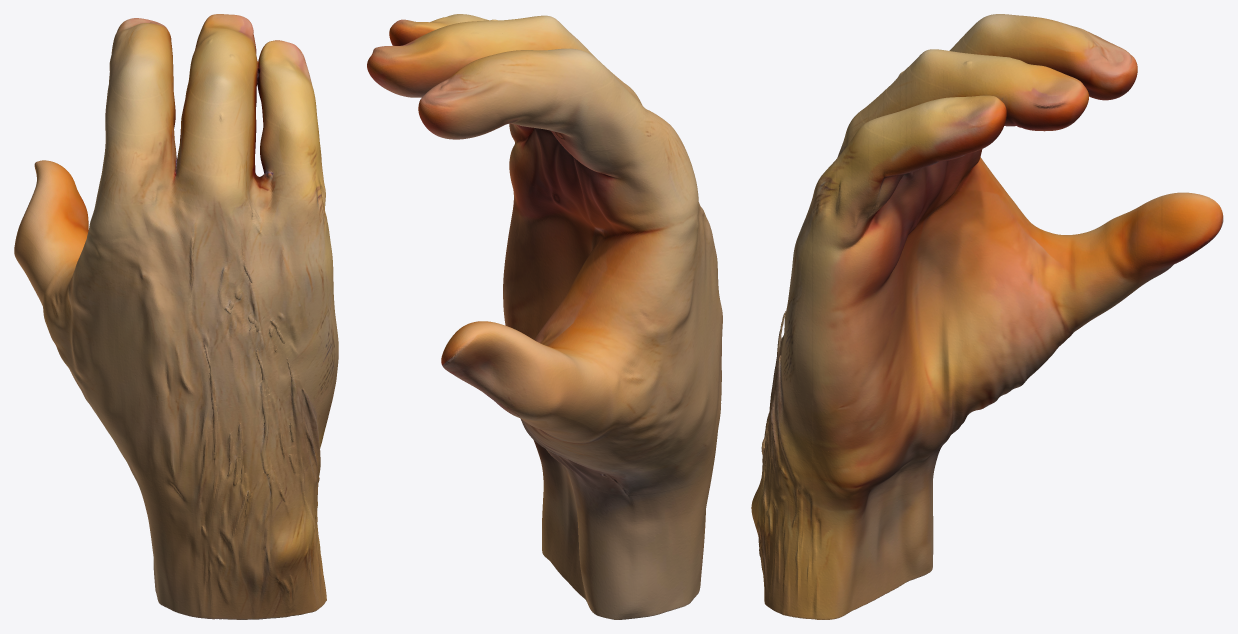
The model's file is letter_C.glb.
3 renders of one model, left to right at view 1: azimuth 30°, elevation 25°; view 2: azimuth 150°, elevation 25°; view 3: azimuth 270°, elevation 25°, orthographic. The views are drawn at different scales.
Visible parts, largest first — view 1: tripo_node_0f8c8f8e-bba5-4359-aed3-6d1e2b46768c; view 2: tripo_node_0f8c8f8e-bba5-4359-aed3-6d1e2b46768c; view 3: tripo_node_0f8c8f8e-bba5-4359-aed3-6d1e2b46768c.
Part boxes in pixels (left/top/right/bottom): tripo_node_0f8c8f8e-bba5-4359-aed3-6d1e2b46768c: left=14, top=14, right=338, bottom=619; tripo_node_0f8c8f8e-bba5-4359-aed3-6d1e2b46768c: left=367, top=14, right=722, bottom=619; tripo_node_0f8c8f8e-bba5-4359-aed3-6d1e2b46768c: left=751, top=14, right=1223, bottom=619.
Size of the model in its own units: 0.4892 by 1 by 0.7667.
Materials: 1 (1 with a texture image).
